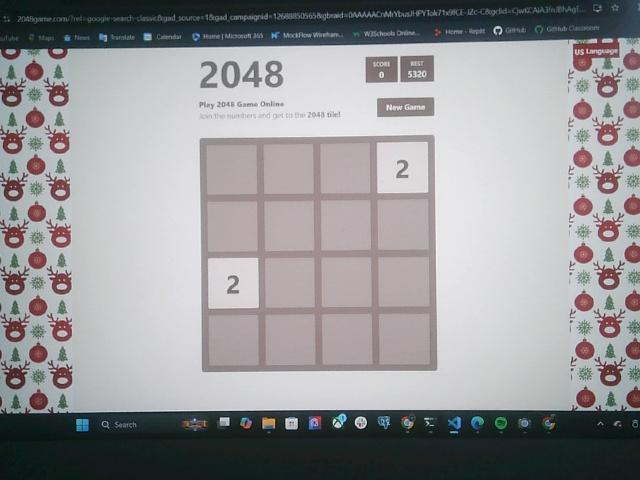board: (199, 137, 437, 372)
tile: (207, 257, 259, 309), (378, 141, 429, 194)
